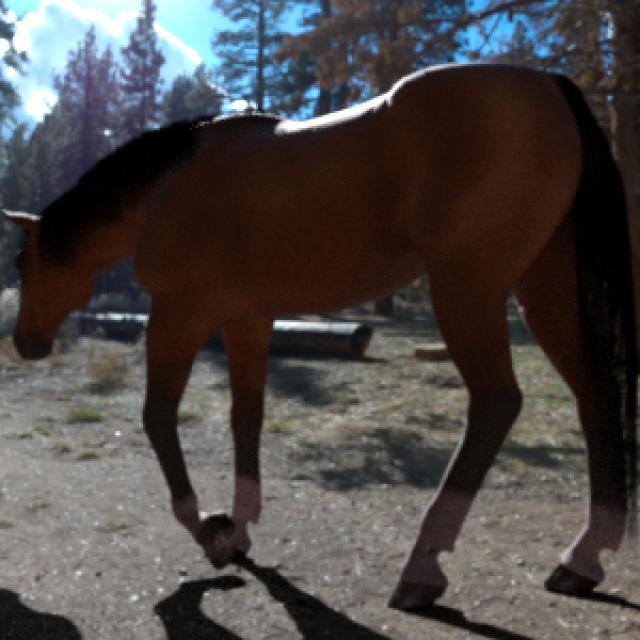horse: (11, 65, 635, 609)
